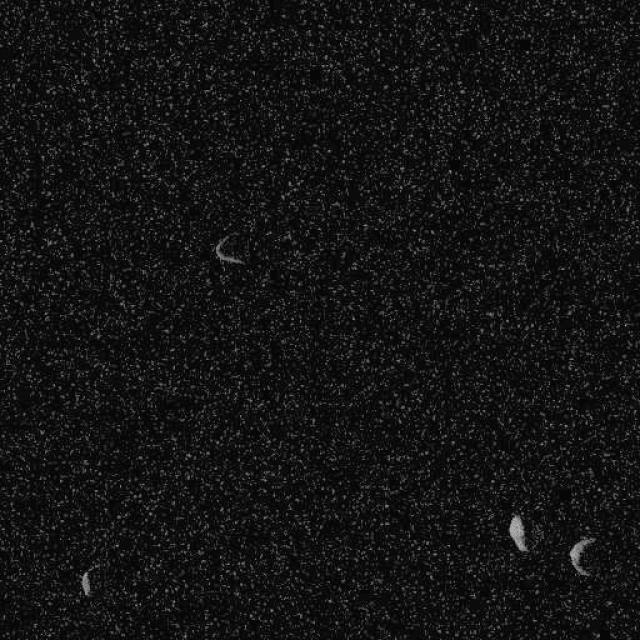D2: (568, 535, 596, 577), (214, 232, 245, 266), (506, 512, 530, 552), (78, 568, 94, 598)
